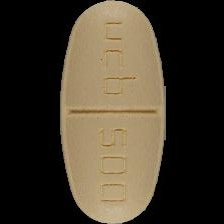54868-4947: (0, 0, 224, 224)
